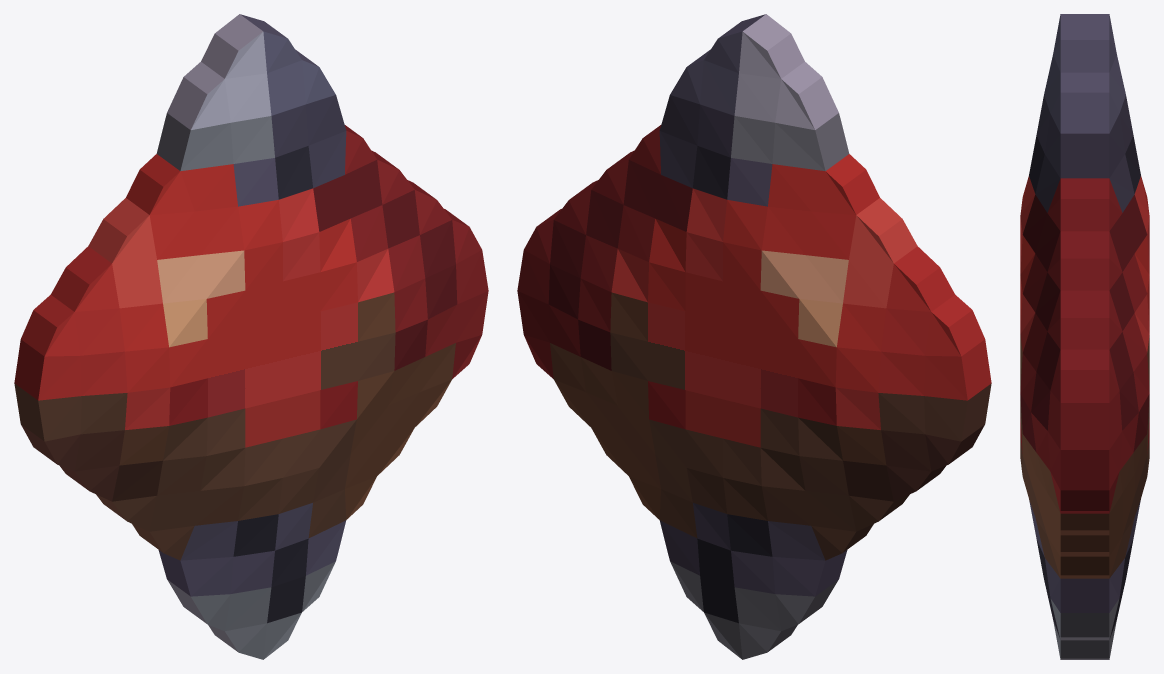
Rendered from poison_dart_trap.glb.
The picture shows the model from 3 angles, left to right: view 1: azimuth 30°, elevation 25°; view 2: azimuth 150°, elevation 25°; view 3: azimuth 270°, elevation 25°; orthographic projection. The views are drawn at different scales.
Parts seen in each view (by area): view 1: poison_dart_trap; view 2: poison_dart_trap; view 3: poison_dart_trap.
Boxes of the visible parts, box(x1,y1,x2,y2) form: poison_dart_trap: box(14, 14, 488, 659); poison_dart_trap: box(517, 14, 991, 659); poison_dart_trap: box(1020, 14, 1149, 659).
Bounding box in the file's own units: 0.75 × 1 × 0.1813.
1 material, 1 textured.
